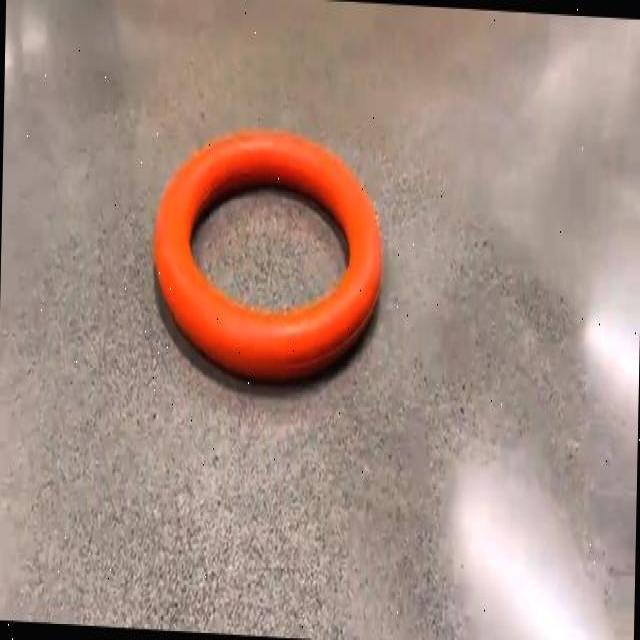note: (154, 131, 382, 381)
